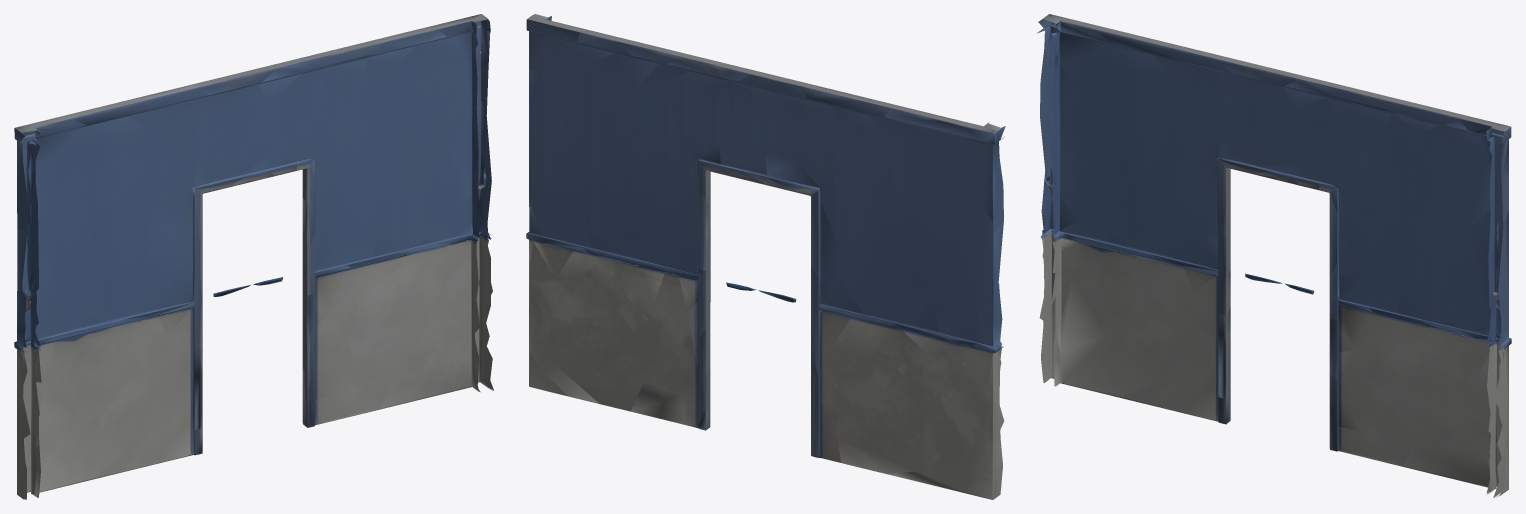
The model's file is wall_doorway.glb.
3 renders of one model, left to right at view 1: azimuth 30°, elevation 25°; view 2: azimuth 150°, elevation 25°; view 3: azimuth 330°, elevation 25°, orthographic.
Parts seen in each view (by area): view 1: Industrial_wall_doorway; view 2: Industrial_wall_doorway; view 3: Industrial_wall_doorway.
Boxes of the visible parts, x1,y1,x2,y2 form: Industrial_wall_doorway: (14, 14, 493, 499); Industrial_wall_doorway: (526, 14, 1005, 499); Industrial_wall_doorway: (1037, 14, 1511, 497).
Size of the model in its own units: 4 by 3 by 0.24.
1 material, 1 textured.
